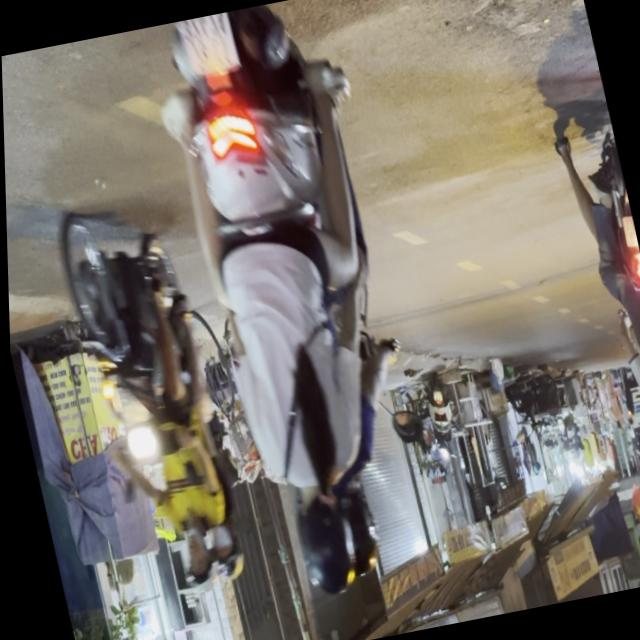helmet: (281, 483, 360, 602), (328, 482, 381, 581), (198, 518, 244, 586), (173, 526, 216, 594)
licenseplate: (133, 0, 455, 614), (43, 192, 257, 608), (549, 112, 640, 486)
nohelmet: (168, 12, 240, 83), (620, 218, 638, 252)
